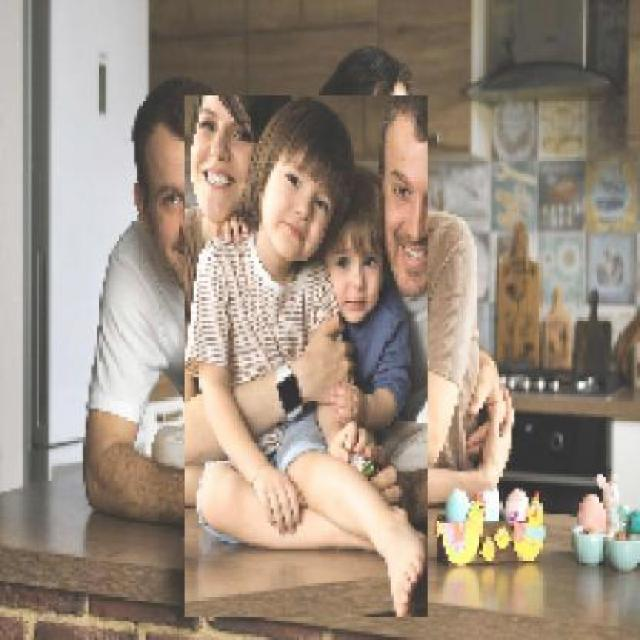child: (183, 96, 428, 618), (200, 163, 291, 468)
